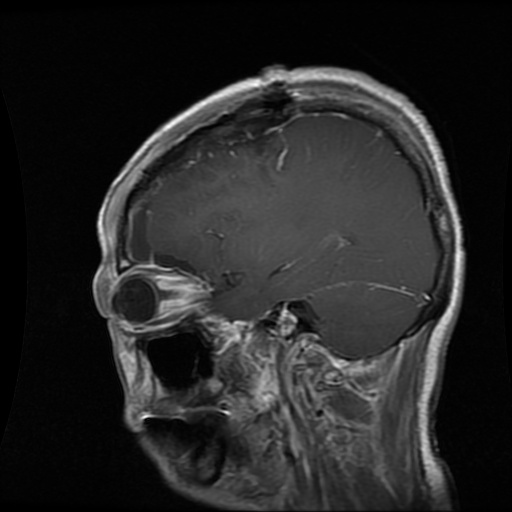glioma: (223, 122, 292, 153)
